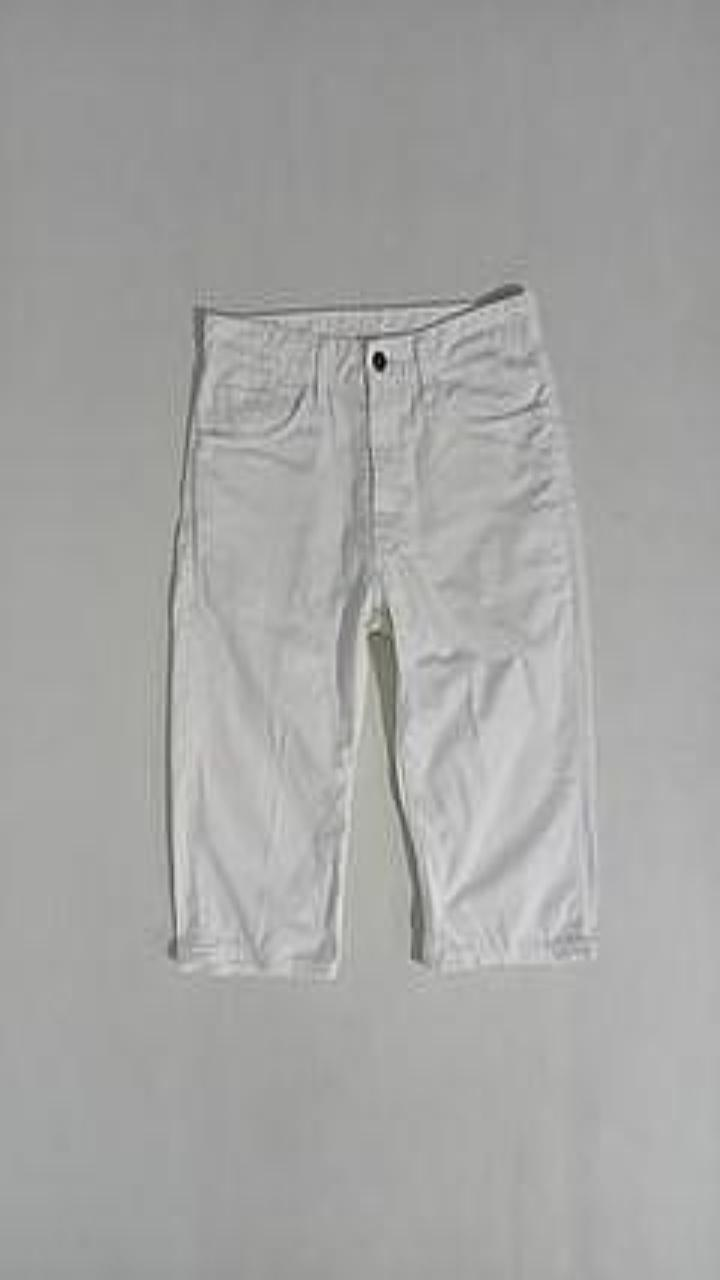Shorts: (169, 285, 597, 976)
